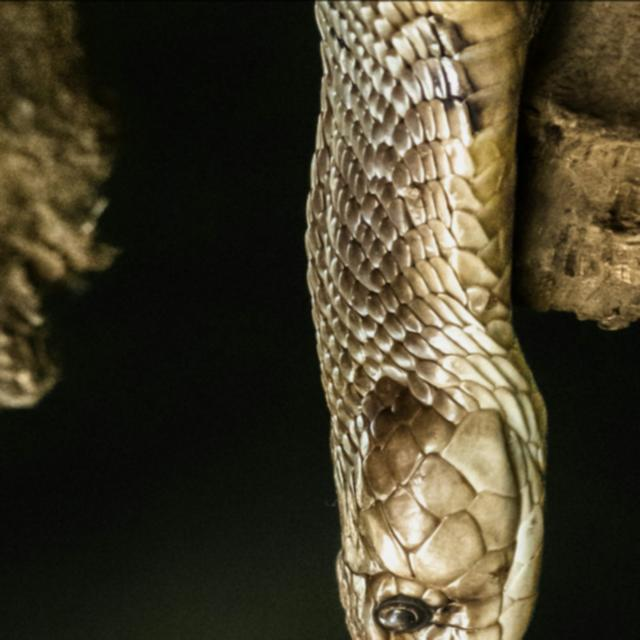Snake: (116, 0, 552, 640)
